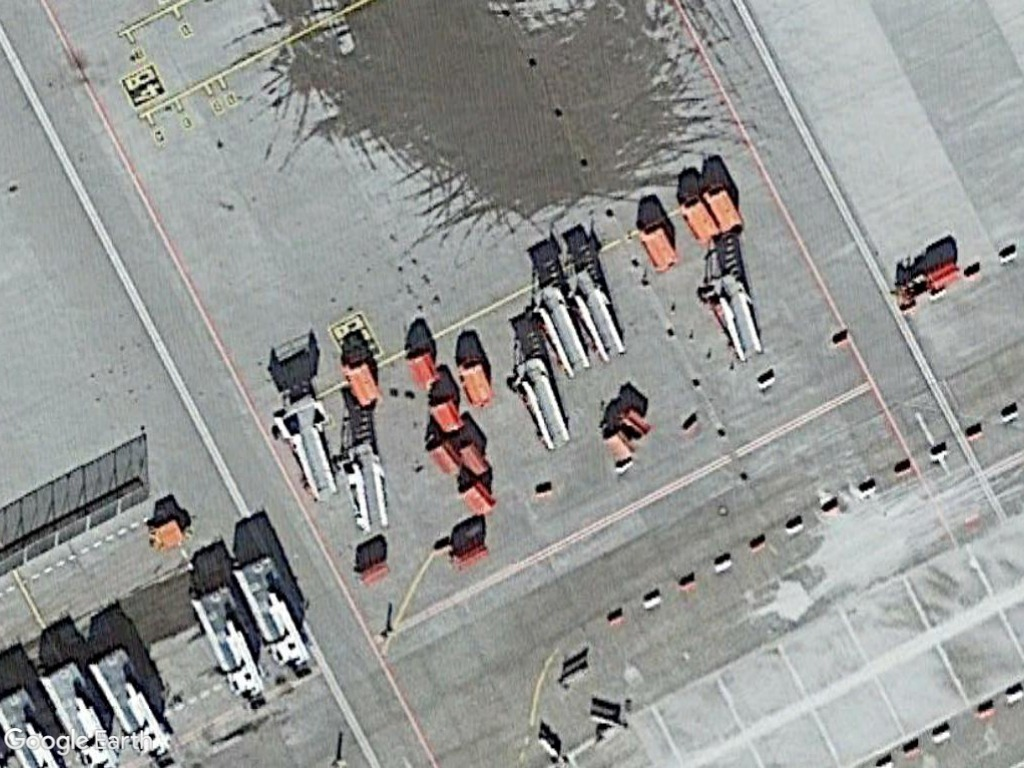stairtruck: (267, 389, 344, 506), (695, 268, 770, 368), (527, 279, 595, 377), (563, 267, 629, 364), (509, 355, 574, 450), (333, 437, 396, 532)
